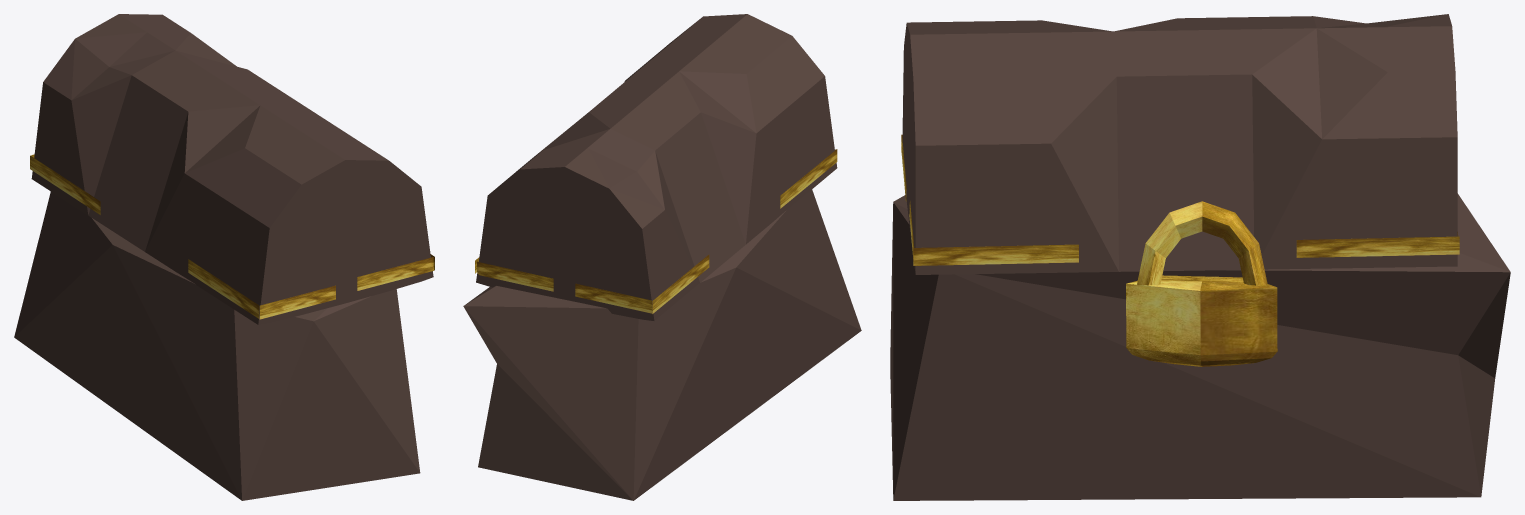
Rendered from Schatztruhe.fbx.
3 renders of one model, left to right at view 1: azimuth 30°, elevation 25°; view 2: azimuth 150°, elevation 25°; view 3: azimuth 270°, elevation 25°, orthographic. The views are drawn at different scales.
Parts seen in each view (by area): view 1: Zylinder, Würfel, Ebene_7, Ebene_6, Ebene_5, Ebene_4; view 2: Zylinder, Würfel, Ebene_3, Ebene_2, Ebene_5, Ebene_4; view 3: Würfel, Zylinder, Kapsel, Ring, Ebene_1, Ebene.
Part boxes in pixels (x1,y1,x2,y2): Zylinder: [31, 14, 433, 324]; Würfel: [14, 191, 420, 500]; Ebene_7: [357, 257, 433, 290]; Ebene_6: [259, 285, 335, 319]; Ebene_5: [188, 259, 258, 318]; Ebene_4: [30, 155, 100, 214]; Zylinder: [476, 14, 837, 321]; Würfel: [463, 189, 861, 500]; Ebene_3: [575, 283, 651, 313]; Ebene_2: [477, 261, 553, 291]; Ebene_5: [780, 149, 837, 208]; Ebene_4: [652, 254, 709, 313]; Würfel: [890, 193, 1510, 500]; Zylinder: [902, 14, 1457, 274]; Kapsel: [1126, 275, 1277, 366]; Ring: [1137, 201, 1267, 285]; Ebene_1: [913, 244, 1078, 265]; Ebene: [1296, 236, 1459, 257].
Bounding box in the file's own units: 121 × 174 × 231.
2 materials, 1 textured.
